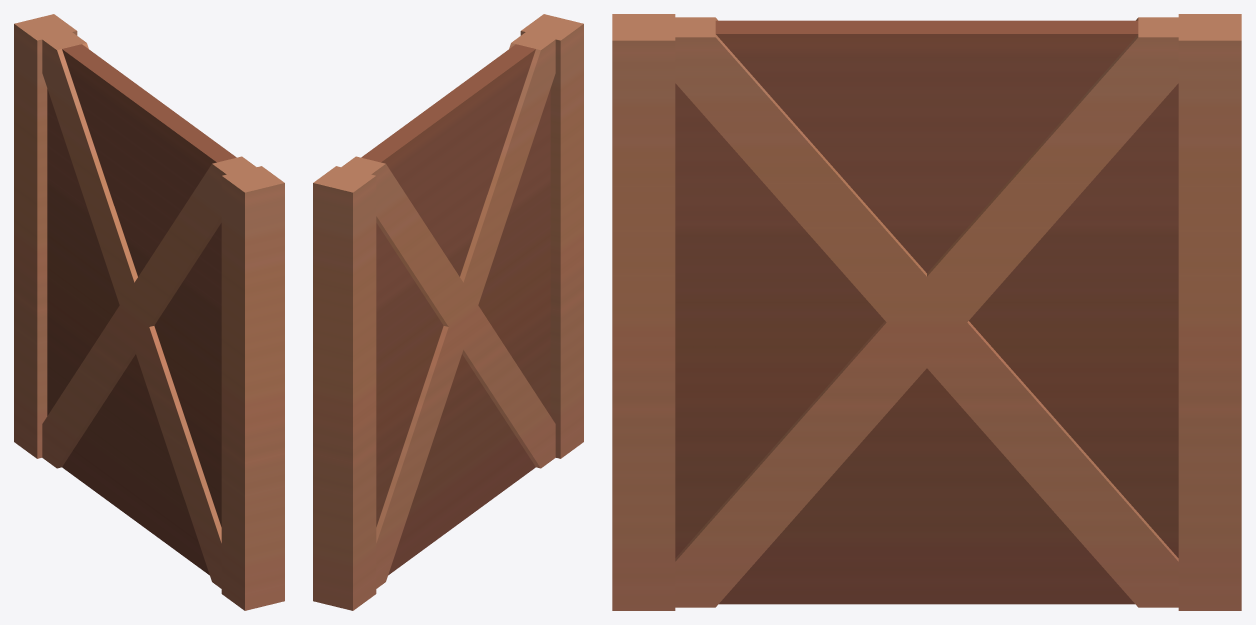
The model's file is wall-wood-detail-cross.glb.
3 renders of one model, left to right at view 1: azimuth 30°, elevation 25°; view 2: azimuth 150°, elevation 25°; view 3: azimuth 270°, elevation 25°, orthographic. The views are drawn at different scales.
Parts seen in each view (by area): view 1: wall-wood-detail-cross; view 2: wall-wood-detail-cross; view 3: wall-wood-detail-cross.
Boxes of the visible parts, x1,y1,x2,y2 form: wall-wood-detail-cross: (14,14,284,610); wall-wood-detail-cross: (313,14,583,610); wall-wood-detail-cross: (612,14,1241,610).
Bounding box in the file's own units: 0.1 × 1 × 1.
Materials: 1 (1 with a texture image).
